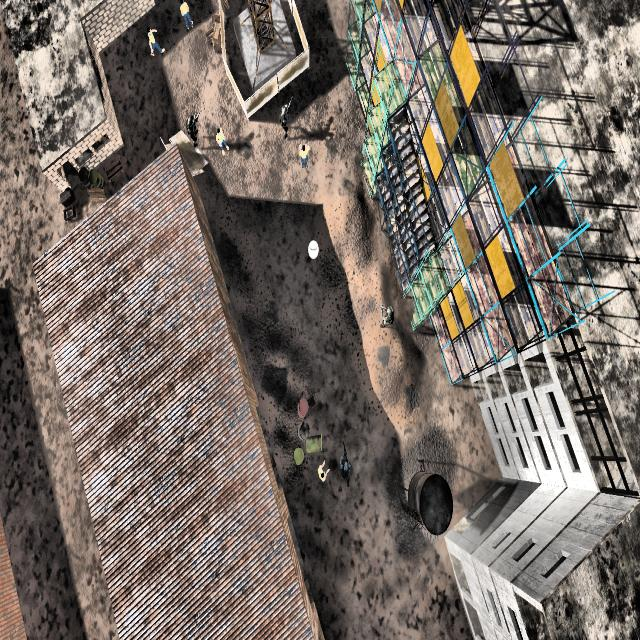bad: (336, 445, 360, 493), (378, 292, 399, 336), (276, 98, 294, 144), (182, 108, 200, 152)
good: (308, 453, 336, 491), (144, 18, 164, 69), (294, 134, 312, 172), (212, 125, 231, 158), (180, 0, 196, 36)
